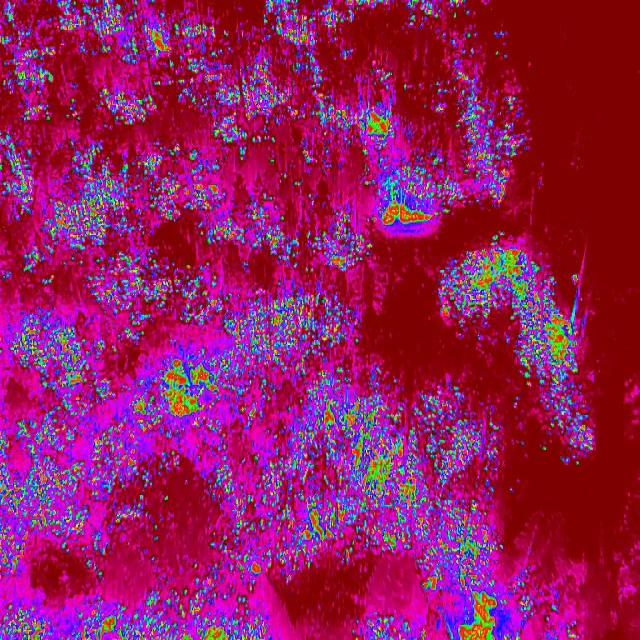fire: (0, 0, 386, 640), (386, 372, 518, 640), (386, 0, 526, 234), (437, 235, 586, 341), (514, 340, 598, 461), (520, 566, 588, 640)
